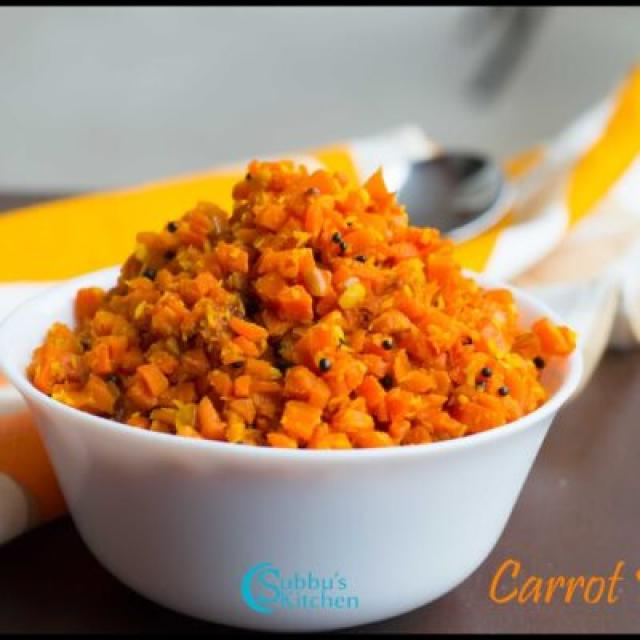carrot poriyal: (25, 160, 584, 440)
